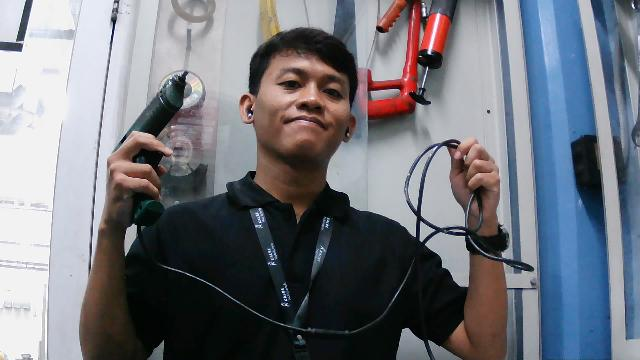gun_lem: (97, 59, 203, 235)
